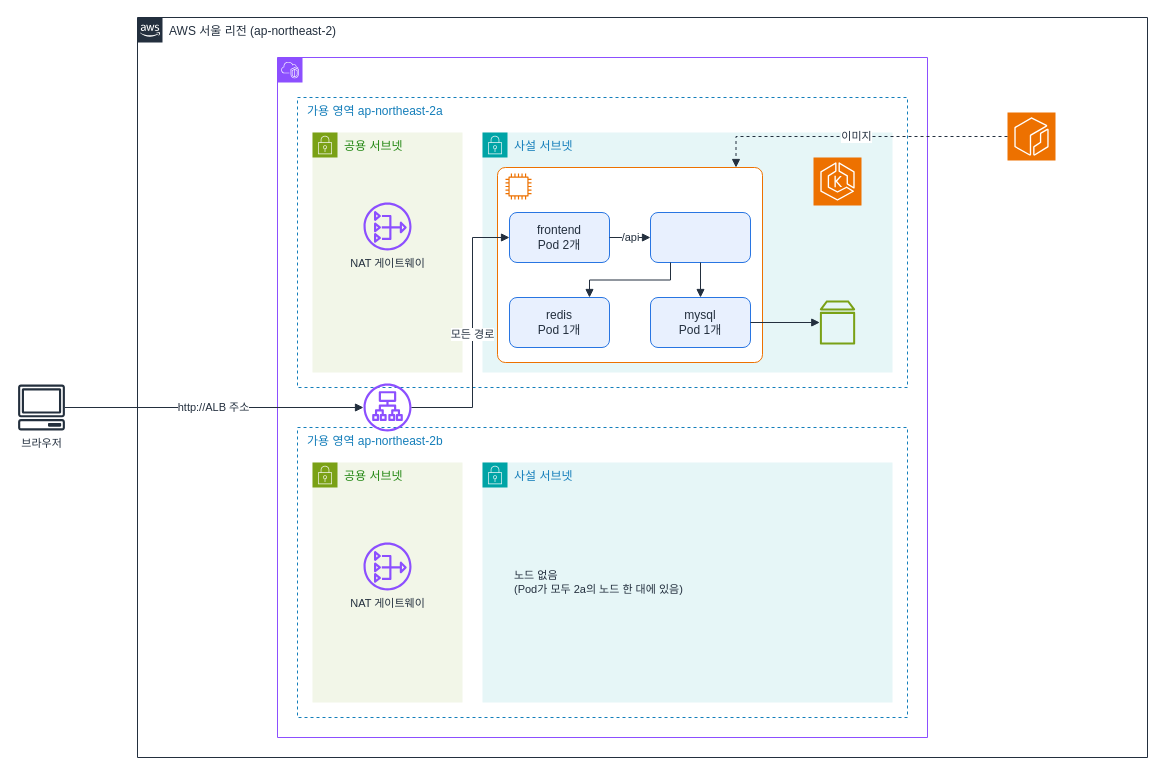
This 1165x775 diagram has some shape labels left out. Each missing label, with the box of its shape:
ALB · HTTP 80: (363, 383, 411, 431)
Amazon ECR backend, frontend (2.0, 2.1): (1006, 112, 1056, 160)
Amazon EKS Auto Mode ticketing-eks: (812, 156, 862, 206)
backend Pod 2개: (650, 212, 750, 262)
EBS gp3 2GiB (PVC): (819, 300, 855, 344)
EKS 노드 (c5a.large): (496, 166, 762, 362)
VPC 192.168.0.0/16: (276, 56, 928, 738)
